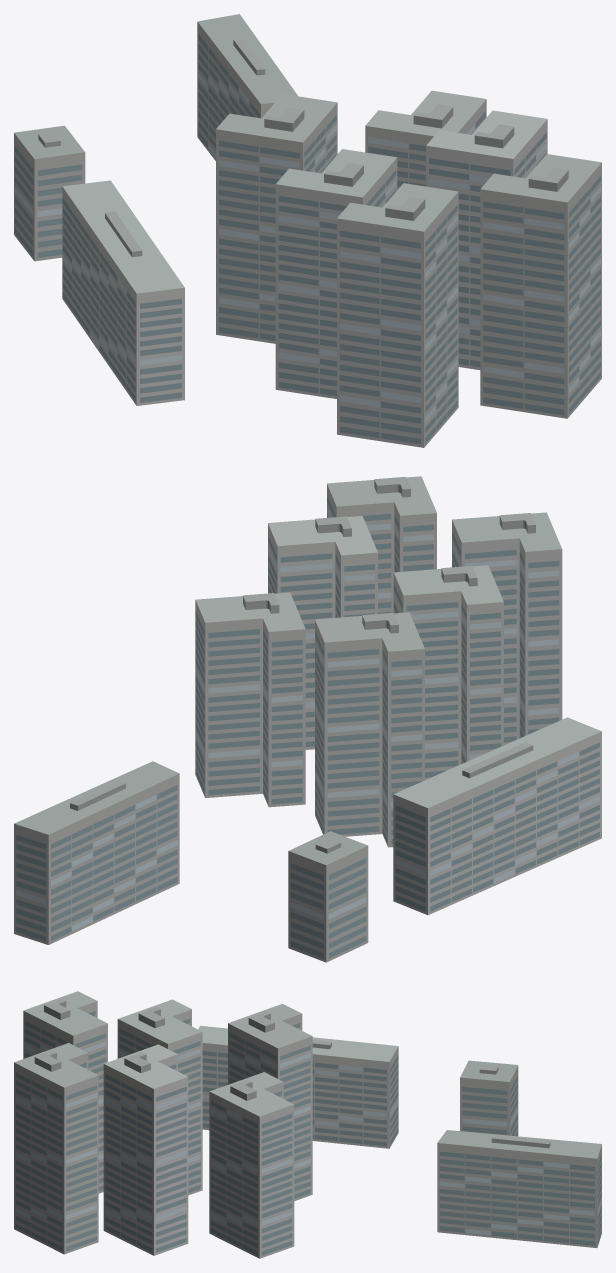
The model's file is apt-a10024932.glb.
3 views of the same model, one above another, from view 1: azimuth 30°, elevation 25°; view 2: azimuth 150°, elevation 25°; view 3: azimuth 270°, elevation 25° (orthographic). The views are drawn at different scales.
Visible parts, largest first — view 1: apt-a10024932; view 2: apt-a10024932; view 3: apt-a10024932.
Boxes of the visible parts, x1=… form: apt-a10024932: x1=14, y1=14, x2=601, y2=447; apt-a10024932: x1=14, y1=476, x2=601, y2=962; apt-a10024932: x1=14, y1=991, x2=601, y2=1258.
Bounding box in the file's own units: 114 × 63 × 193.
